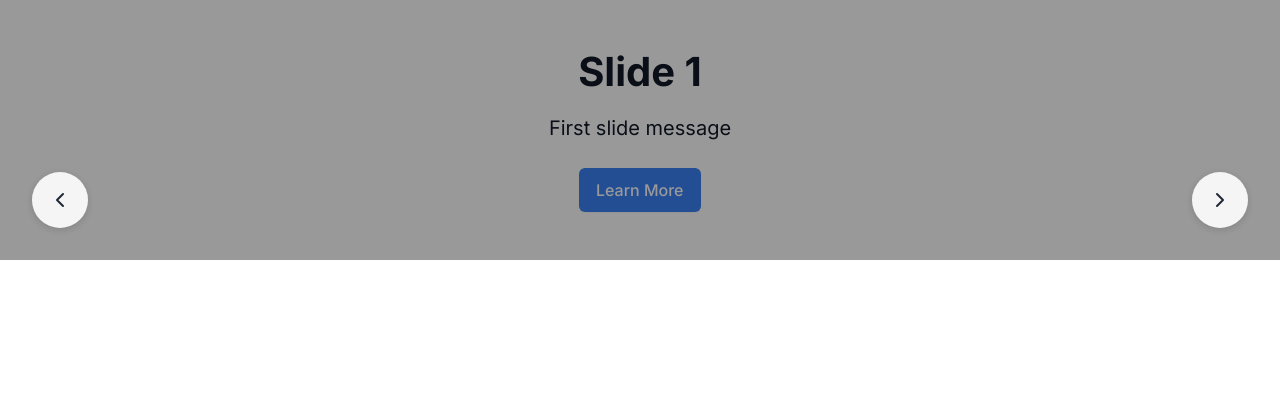
BannerSlider Component › Auto-Play › should pause on hover when pauseOnHover is true
This screenshot has width=1280, height=417.
Hover over the element with test id "banner-slider": (640, 200) 0,0 -> 1279,400
Check: the heading "Slide 1" is shown, box 578,48 -> 702,96
// Leave hover
Move the pointer off the element with test id "banner-slider"
Wait 1000 ms
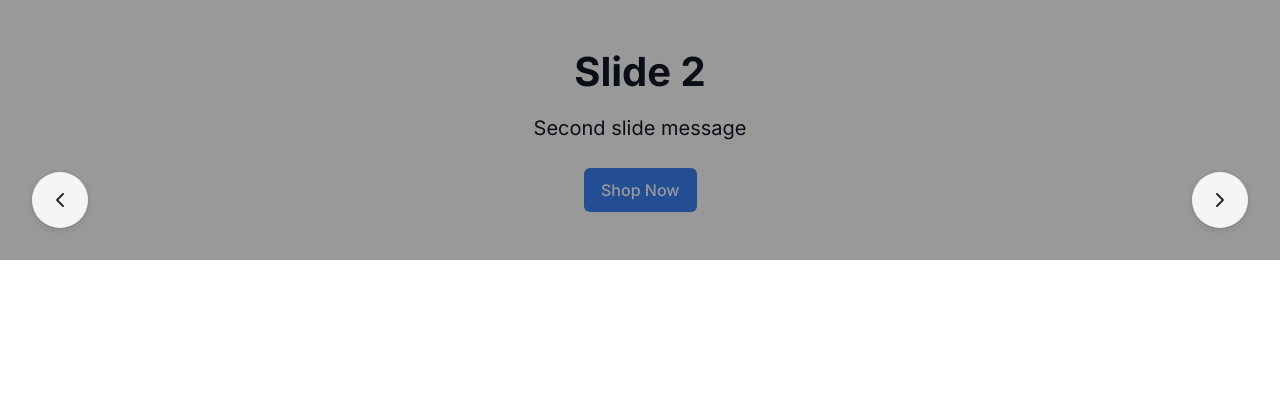
Check: the heading "Slide 2" is shown, box 574,48 -> 706,96
